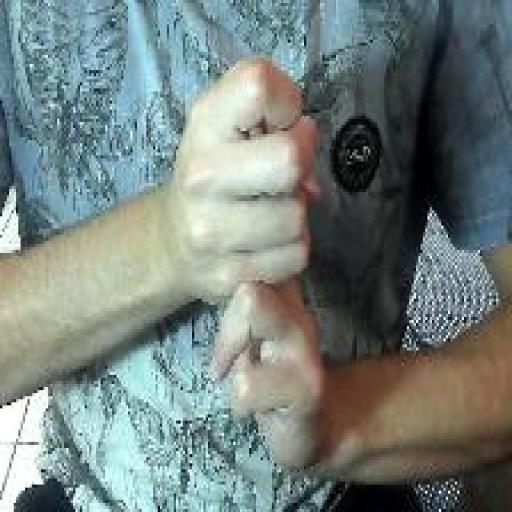Ne -rat-: (164, 52, 330, 484)
